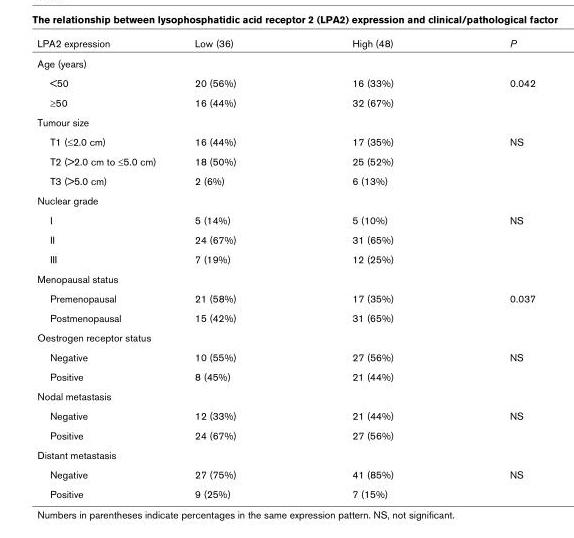table: (36, 36, 534, 499)
table column: (293, 36, 451, 499), (36, 36, 174, 499), (174, 36, 293, 499), (451, 36, 534, 499)
table column header: (36, 36, 534, 52)
table projected row header: (36, 52, 534, 72), (36, 111, 534, 131), (36, 268, 534, 288), (36, 385, 534, 405), (36, 444, 534, 464), (36, 190, 534, 209), (36, 327, 534, 346)
table row: (36, 52, 534, 72), (36, 72, 534, 92), (36, 111, 534, 131), (36, 150, 534, 170), (36, 170, 534, 190), (36, 209, 534, 229), (36, 248, 534, 268), (36, 268, 534, 288), (36, 307, 534, 327), (36, 346, 534, 366), (36, 385, 534, 405), (36, 405, 534, 425), (36, 444, 534, 464), (36, 92, 534, 111), (36, 131, 534, 150), (36, 190, 534, 209), (36, 229, 534, 248), (36, 288, 534, 307), (36, 327, 534, 346), (36, 366, 534, 385), (36, 425, 534, 444), (36, 464, 534, 483), (36, 36, 534, 52), (36, 483, 534, 499)
